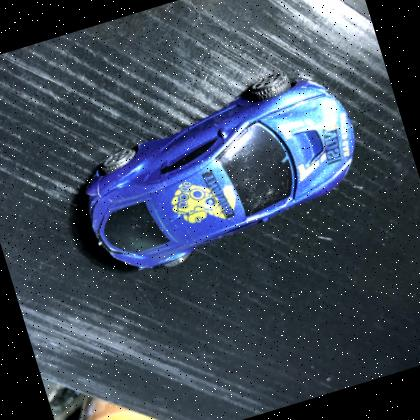Car: (56, 51, 386, 292)
